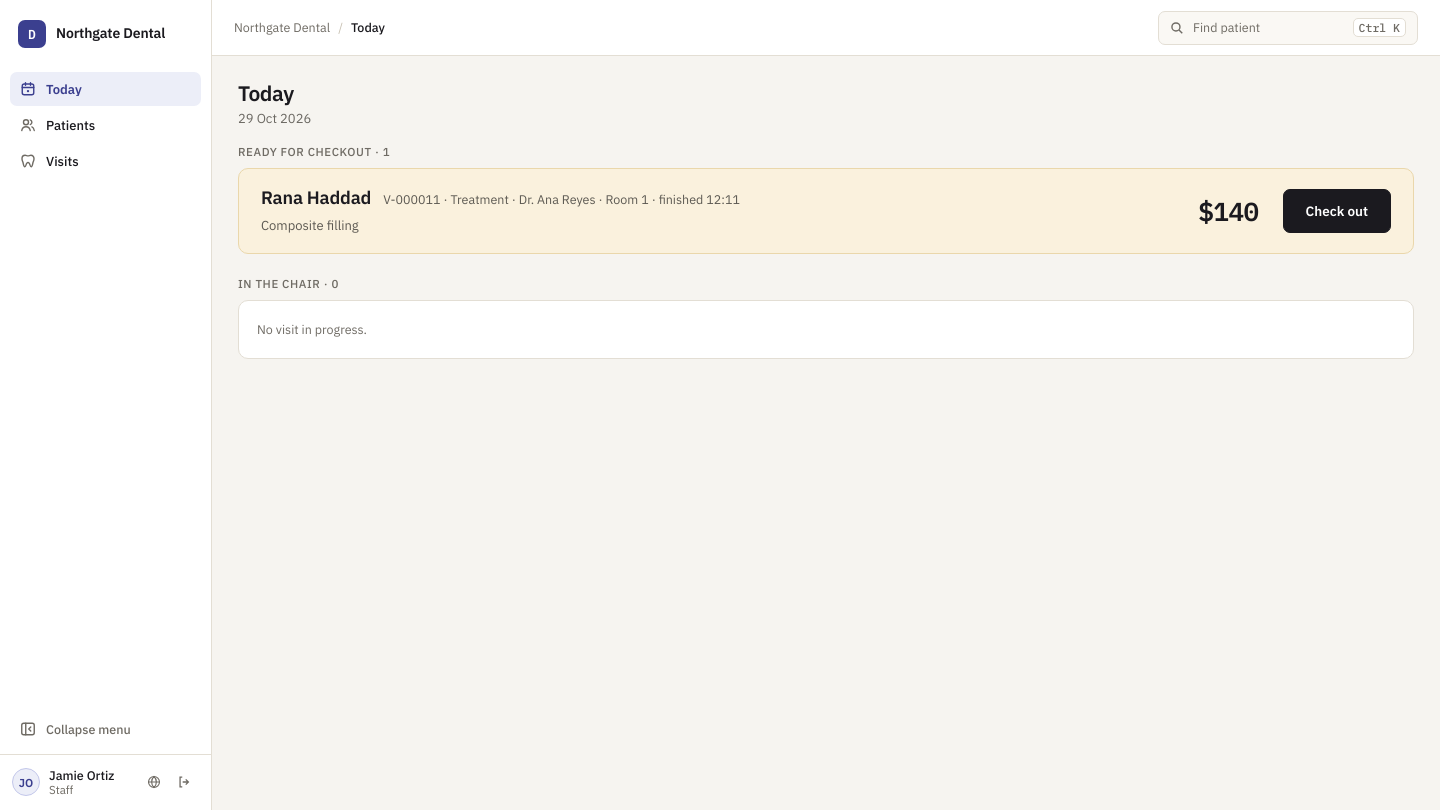
Test: TodayPage › Esc only closes the dialog: the visit keeps waiting
Click the button with aria-label "Check out Rana Haddad" at (1337, 211), box [1283,189,1391,233]
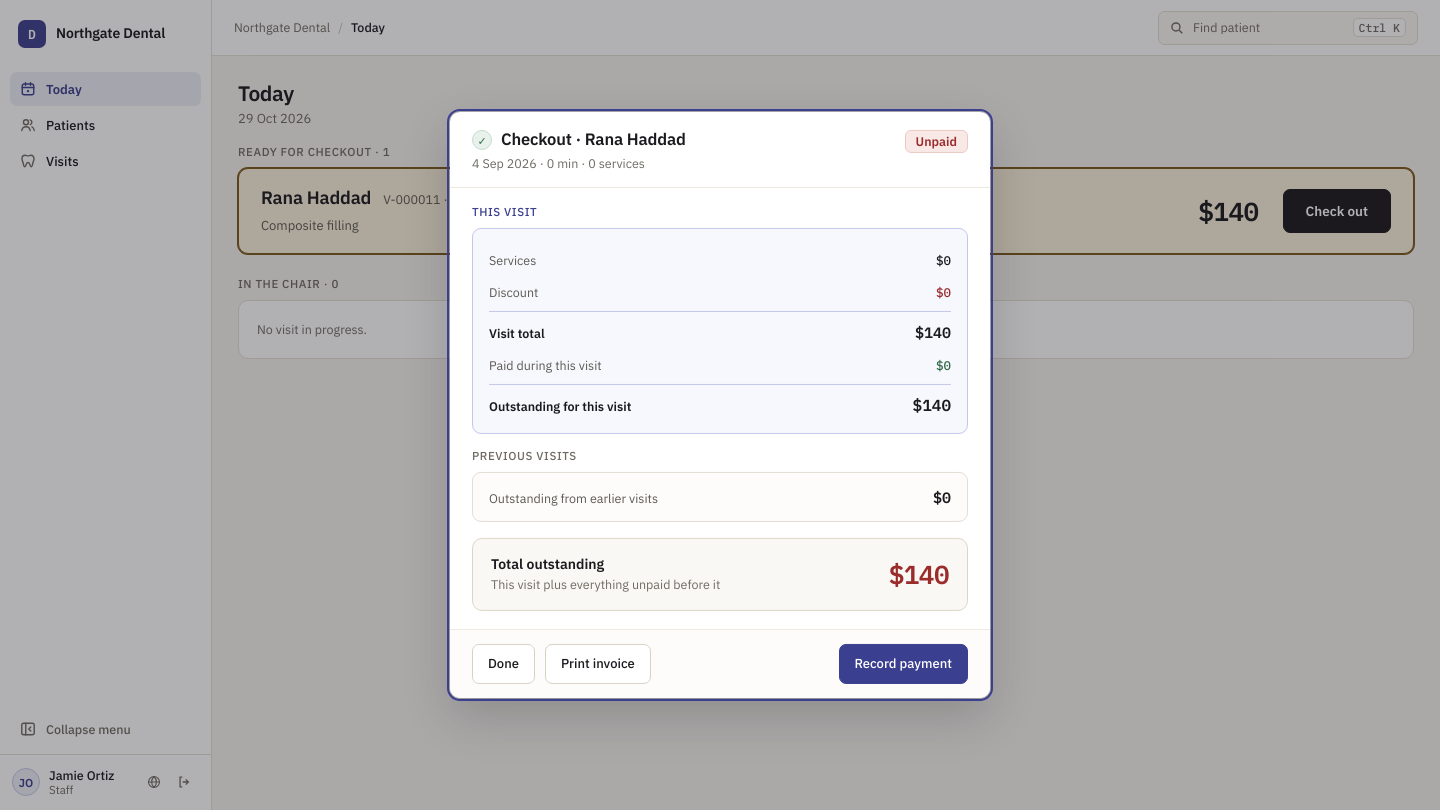
Result: the button "Done" is shown at [472,644,535,684]
Press Escape in the dialog "Checkout · Rana Haddad", box [450,112,990,698]
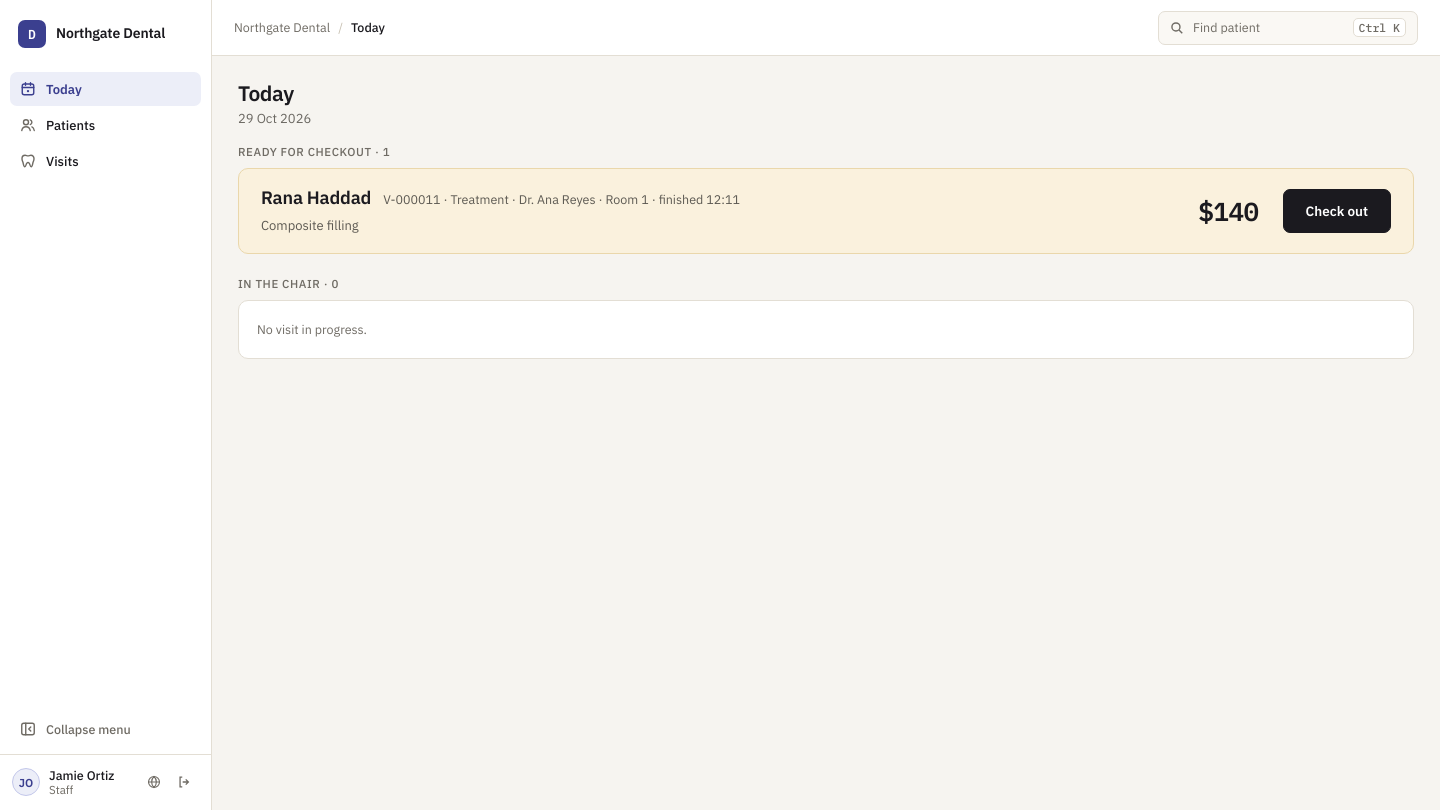
Expected: the element "Ready for checkout · 1" is shown, [238,146,1414,254]
Result: the dialog is gone
